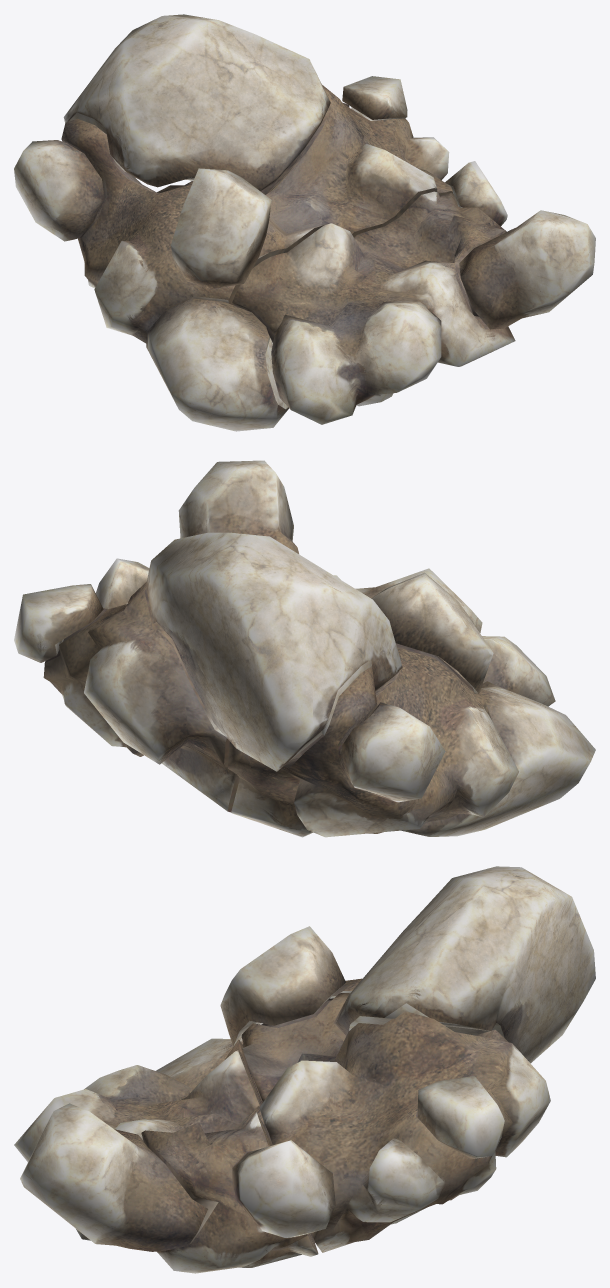
The model's file is SM_Stone1_Pieces.fbx.
The picture shows the model from 3 angles, top to bottom: view 1: azimuth 30°, elevation 25°; view 2: azimuth 150°, elevation 25°; view 3: azimuth 270°, elevation 25°; orthographic projection. The views are drawn at different scales.
Parts seen in each view (by area): view 1: SM_Stone1_Pieces_9, SM_Stone1_Pieces_2, SM_Stone1_Pieces_10, SM_Stone1_Pieces_1, SM_Stone1_Pieces_6, SM_Stone1_Pieces_4, SM_Stone1_Pieces_3, SM_Stone1_Pieces_7, SM_Stone1_Pieces_5, SM_Stone1_Pieces_8; view 2: SM_Stone1_Pieces_2, SM_Stone1_Pieces_1, SM_Stone1_Pieces_10, SM_Stone1_Pieces_6, SM_Stone1_Pieces_7, SM_Stone1_Pieces_4, SM_Stone1_Pieces_3, SM_Stone1_Pieces_5, SM_Stone1_Pieces_9, SM_Stone1_Pieces_8; view 3: SM_Stone1_Pieces_10, SM_Stone1_Pieces_2, SM_Stone1_Pieces_9, SM_Stone1_Pieces_4, SM_Stone1_Pieces_3, SM_Stone1_Pieces_8, SM_Stone1_Pieces_5, SM_Stone1_Pieces_6.
Part boxes in pixels (<box>): SM_Stone1_Pieces_9: <box>232,191,515,424</box>; SM_Stone1_Pieces_2: <box>63,14,330,190</box>; SM_Stone1_Pieces_10: <box>253,85,452,267</box>; SM_Stone1_Pieces_1: <box>61,119,239,343</box>; SM_Stone1_Pieces_6: <box>146,298,289,431</box>; SM_Stone1_Pieces_4: <box>459,210,595,329</box>; SM_Stone1_Pieces_3: <box>171,168,271,289</box>; SM_Stone1_Pieces_7: <box>14,140,104,241</box>; SM_Stone1_Pieces_5: <box>342,76,407,120</box>; SM_Stone1_Pieces_8: <box>445,161,507,226</box>; SM_Stone1_Pieces_2: <box>146,532,402,771</box>; SM_Stone1_Pieces_1: <box>228,643,518,837</box>; SM_Stone1_Pieces_10: <box>43,582,239,812</box>; SM_Stone1_Pieces_6: <box>402,681,595,836</box>; SM_Stone1_Pieces_7: <box>342,702,445,802</box>; SM_Stone1_Pieces_4: <box>178,460,298,553</box>; SM_Stone1_Pieces_3: <box>371,572,493,693</box>; SM_Stone1_Pieces_5: <box>14,584,103,662</box>; SM_Stone1_Pieces_9: <box>334,568,555,706</box>; SM_Stone1_Pieces_8: <box>95,558,149,609</box>; SM_Stone1_Pieces_10: <box>241,993,550,1252</box>; SM_Stone1_Pieces_2: <box>333,866,595,1063</box>; SM_Stone1_Pieces_9: <box>14,1039,318,1273</box>; SM_Stone1_Pieces_4: <box>20,1103,207,1251</box>; SM_Stone1_Pieces_3: <box>220,926,345,1046</box>; SM_Stone1_Pieces_8: <box>232,1140,335,1237</box>; SM_Stone1_Pieces_5: <box>417,1076,504,1159</box>; SM_Stone1_Pieces_6: <box>156,1038,243,1089</box>.
Size of the model in its own units: 1.23 by 0.9234 by 1.36.
